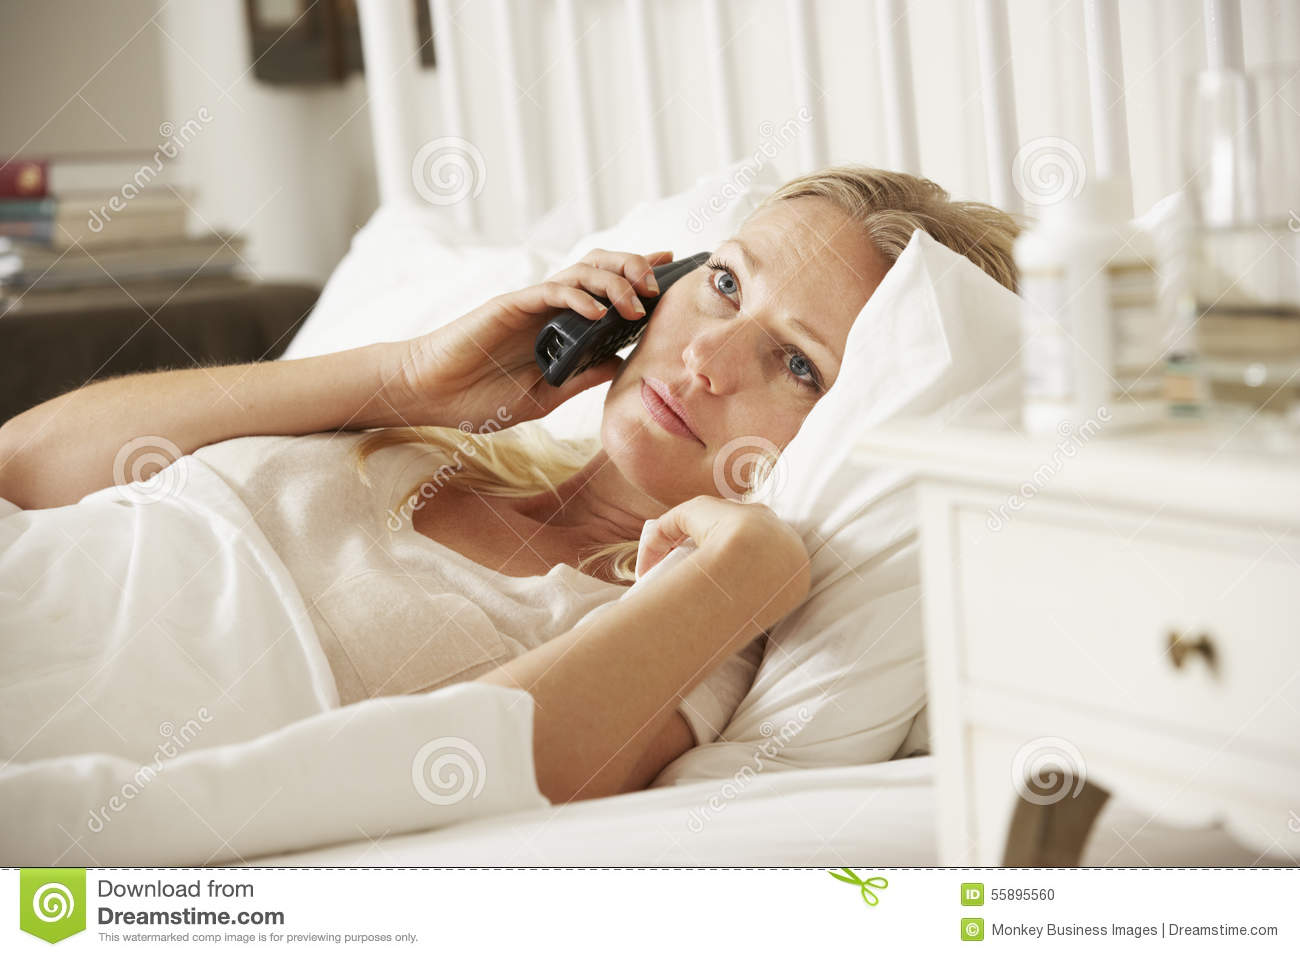phone: (535, 244, 710, 383)
talk: (383, 227, 842, 505)
